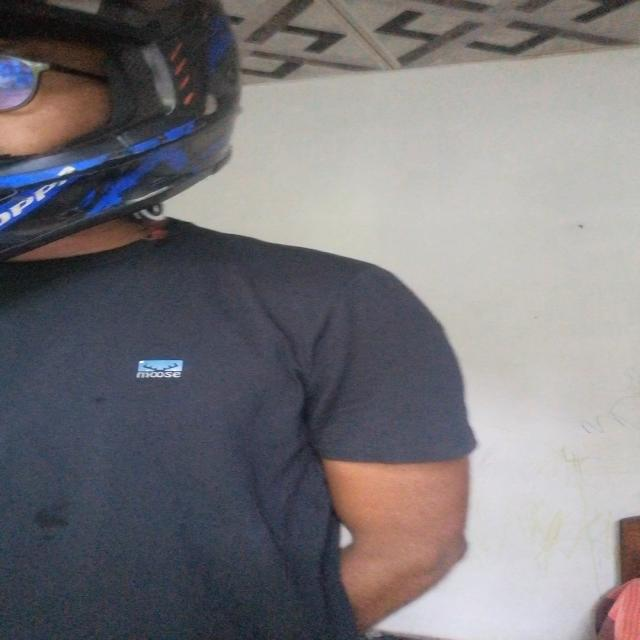Helmet_Wearer: (0, 0, 237, 311)
